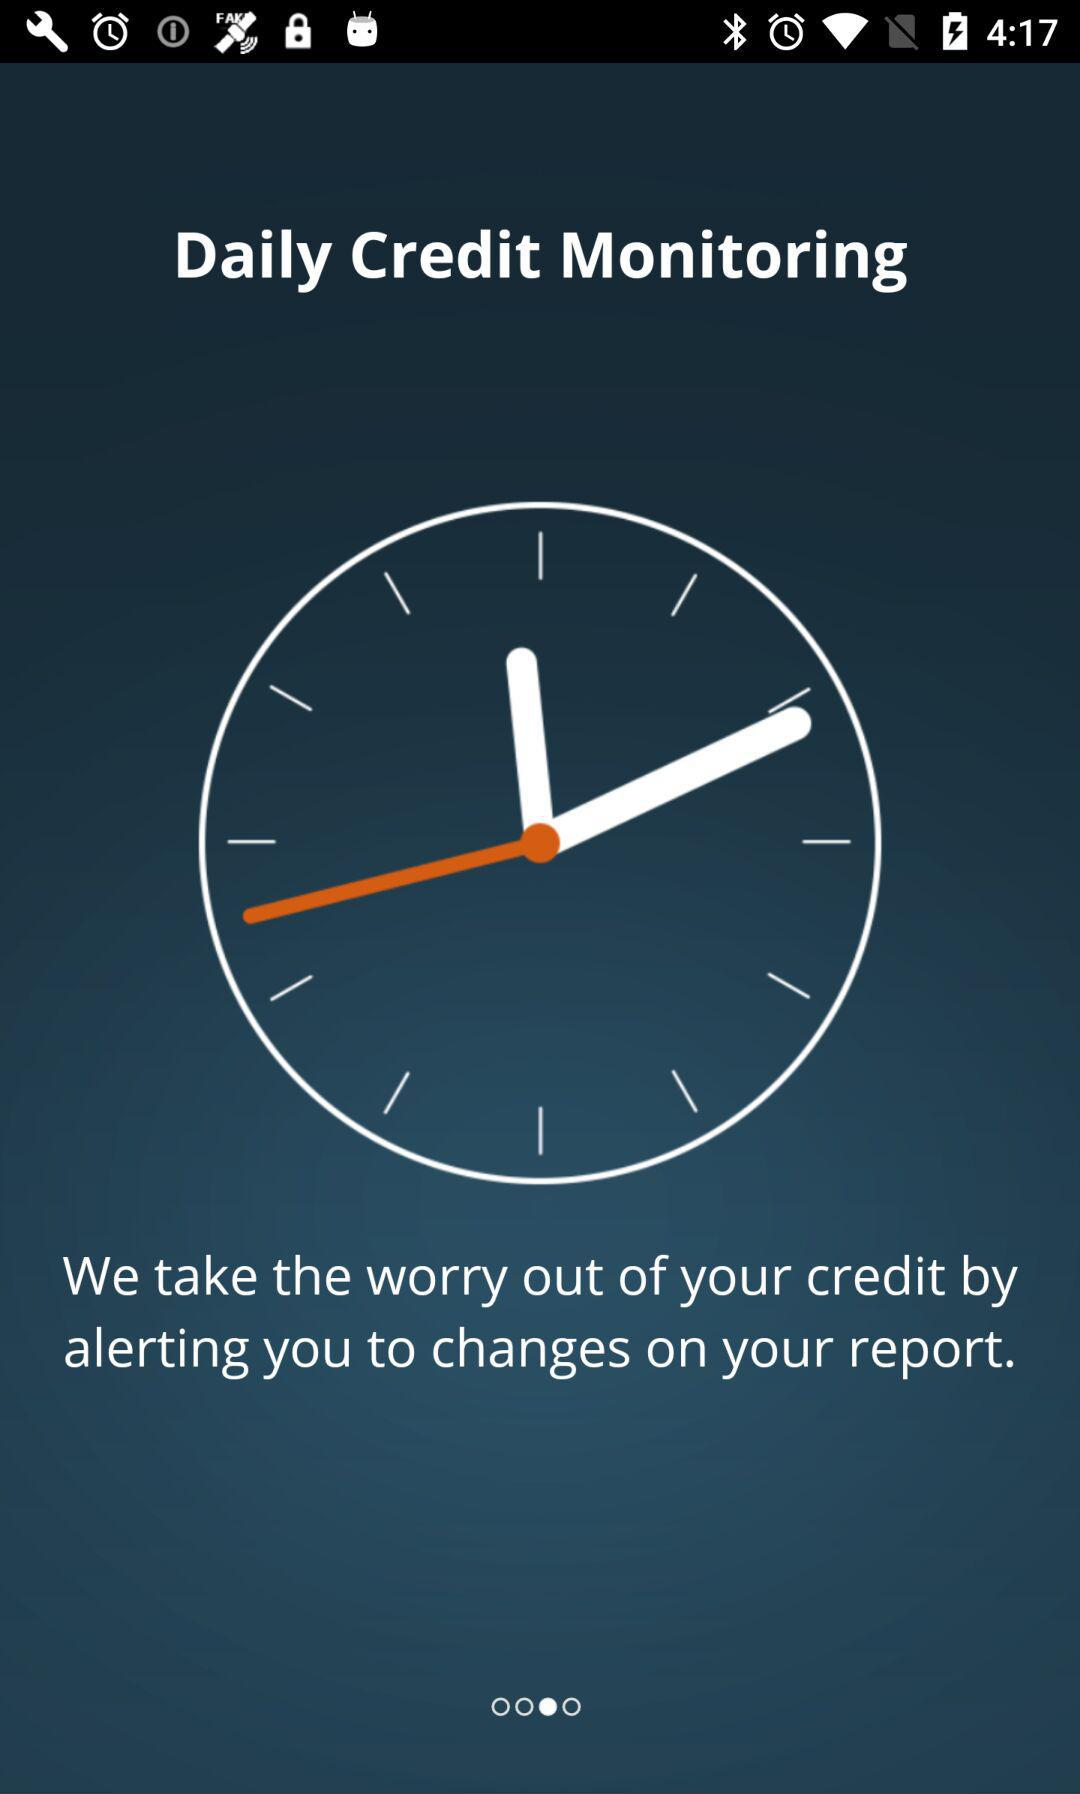Image: (197, 500, 884, 1187)
PageIndicator: (489, 1697, 583, 1718)
Text: (61, 1251, 1020, 1381), (177, 228, 908, 295)
UpperTaskBar: (1, 1, 1080, 64)
